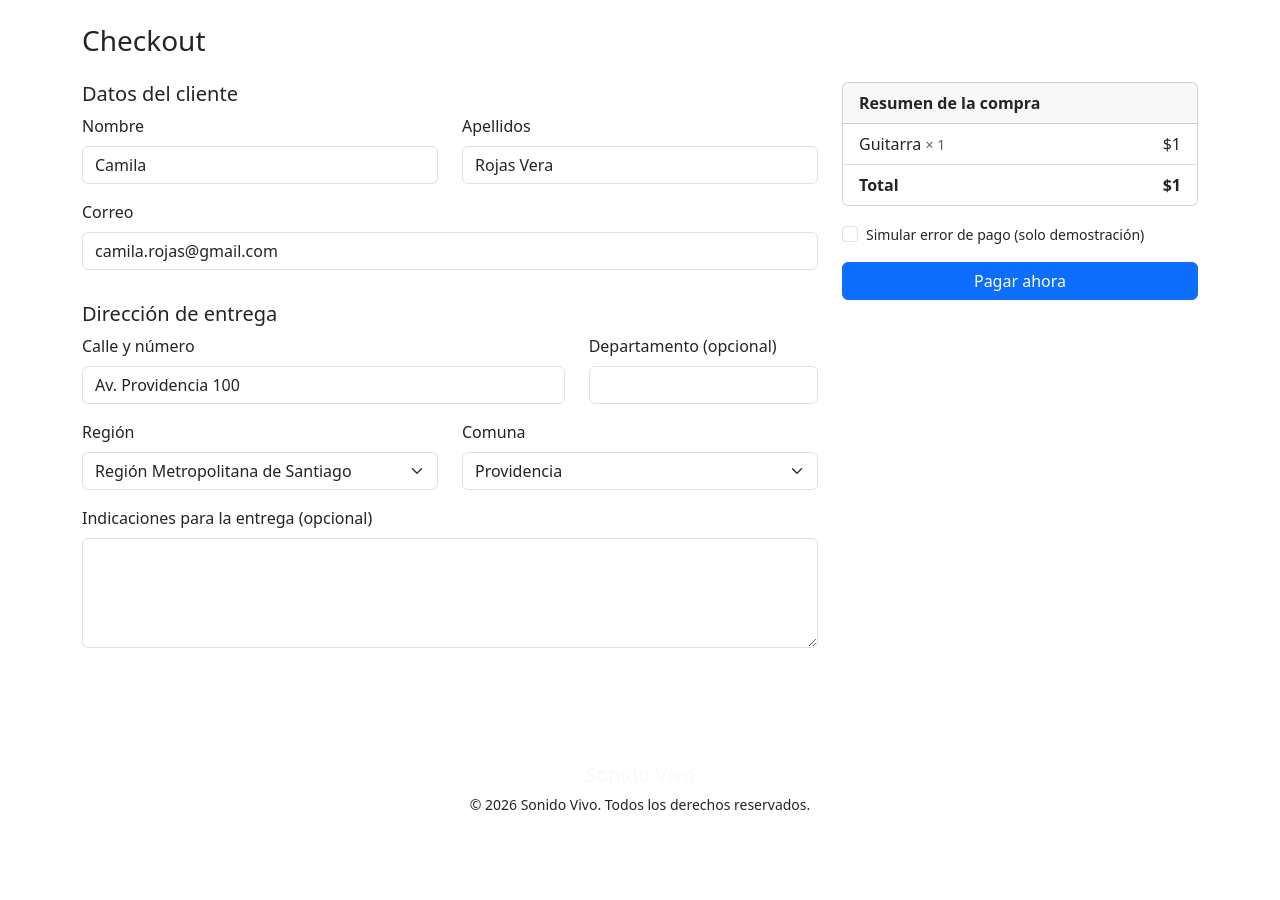
Casos borde › un cupón que el backend rechaza muestra su mensaje en el checkout
Click the button "Pagar ahora": (1020, 281) [842,262,1198,300]
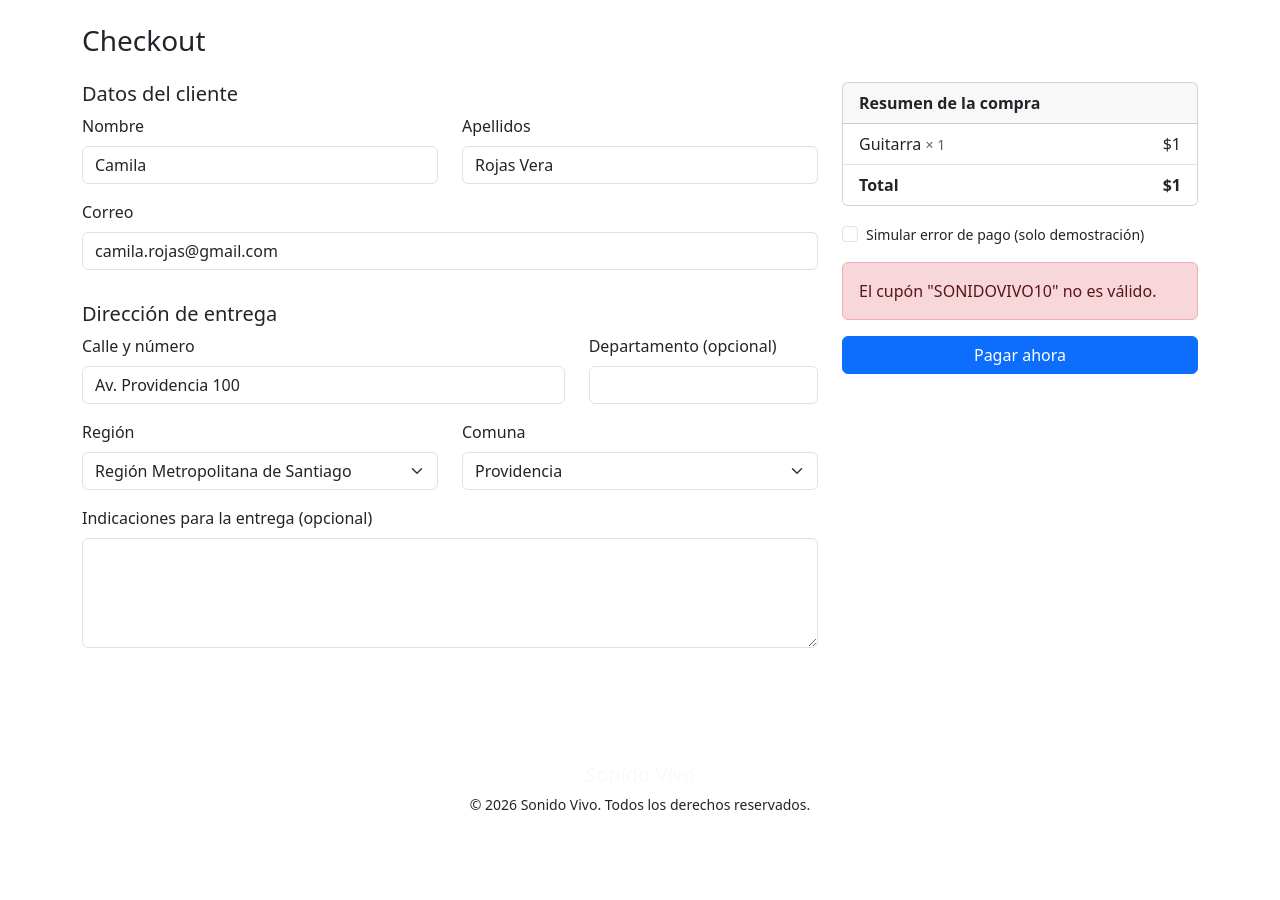
Expected: the text "El cupón \"SONIDOVIVO10\" no es válido." is shown, [842,262,1198,320]
